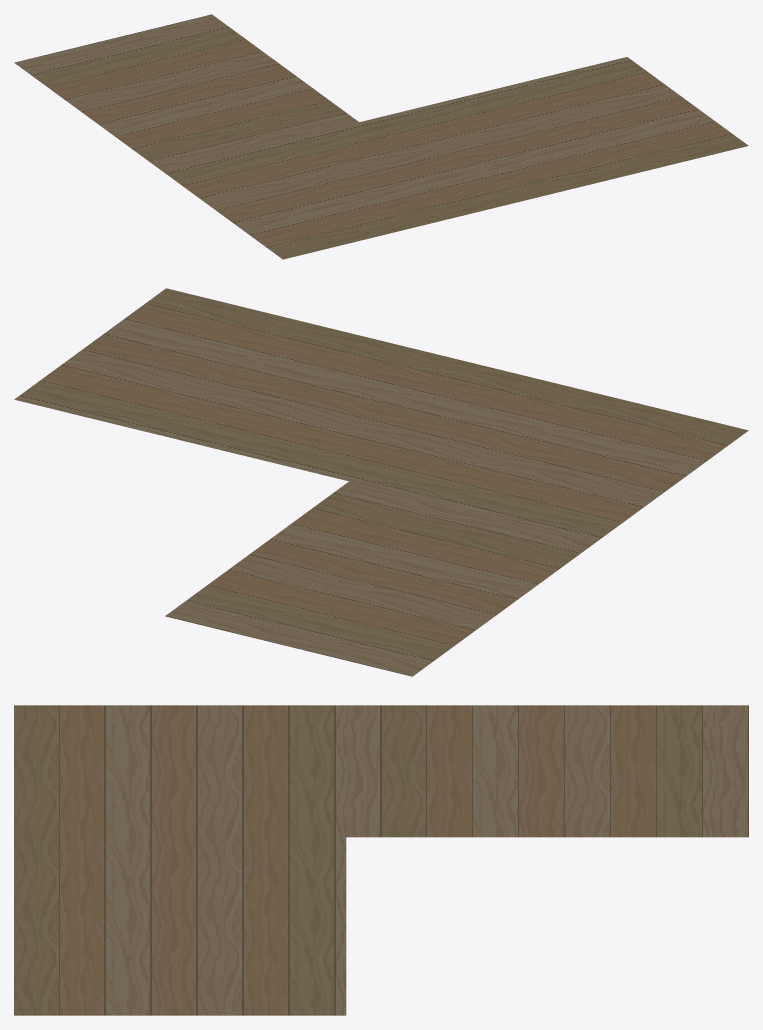
The model's file is kd_stage_135ded_4_9_exterior_piece_1.glb.
3 views of the same model, one above another, from view 1: azimuth 30°, elevation 25°; view 2: azimuth 150°, elevation 25°; view 3: azimuth 270°, elevation 25° (orthographic). The views are drawn at different scales.
Parts seen in each view (by area): view 1: kd_stage_135ded_4_9_exterior_piece_1; view 2: kd_stage_135ded_4_9_exterior_piece_1; view 3: kd_stage_135ded_4_9_exterior_piece_1.
Boxes of the visible parts, x1=… form: kd_stage_135ded_4_9_exterior_piece_1: x1=14, y1=14, x2=748, y2=259; kd_stage_135ded_4_9_exterior_piece_1: x1=14, y1=288, x2=748, y2=676; kd_stage_135ded_4_9_exterior_piece_1: x1=14, y1=705, x2=748, y2=1015.
Size of the model in its own units: 2 by 1.19e-07 by 2.
1 material, 1 textured.
